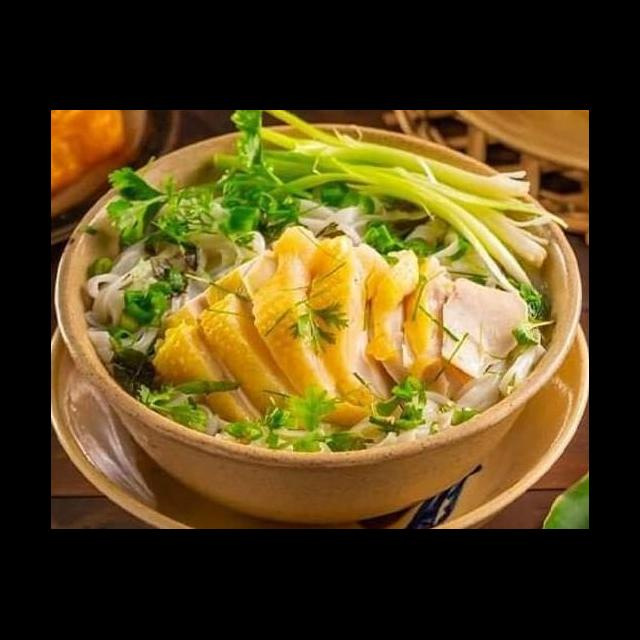banh pho: (79, 218, 270, 370), (342, 336, 549, 456), (401, 214, 509, 294), (286, 192, 376, 252)
pho ga: (60, 142, 589, 528)
thit ga: (238, 222, 374, 430), (194, 245, 311, 428), (304, 232, 409, 426), (149, 286, 266, 432), (408, 240, 483, 404), (352, 240, 428, 398), (437, 274, 532, 386), (395, 249, 456, 406)
